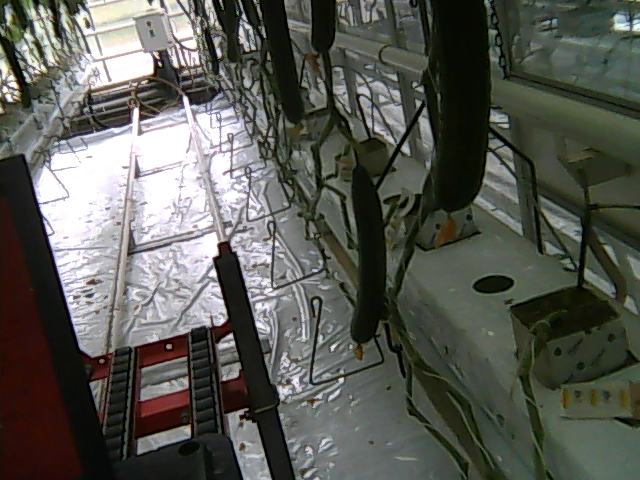concombre: (425, 1, 493, 248), (343, 160, 390, 362), (255, 1, 307, 138), (309, 1, 340, 68)
